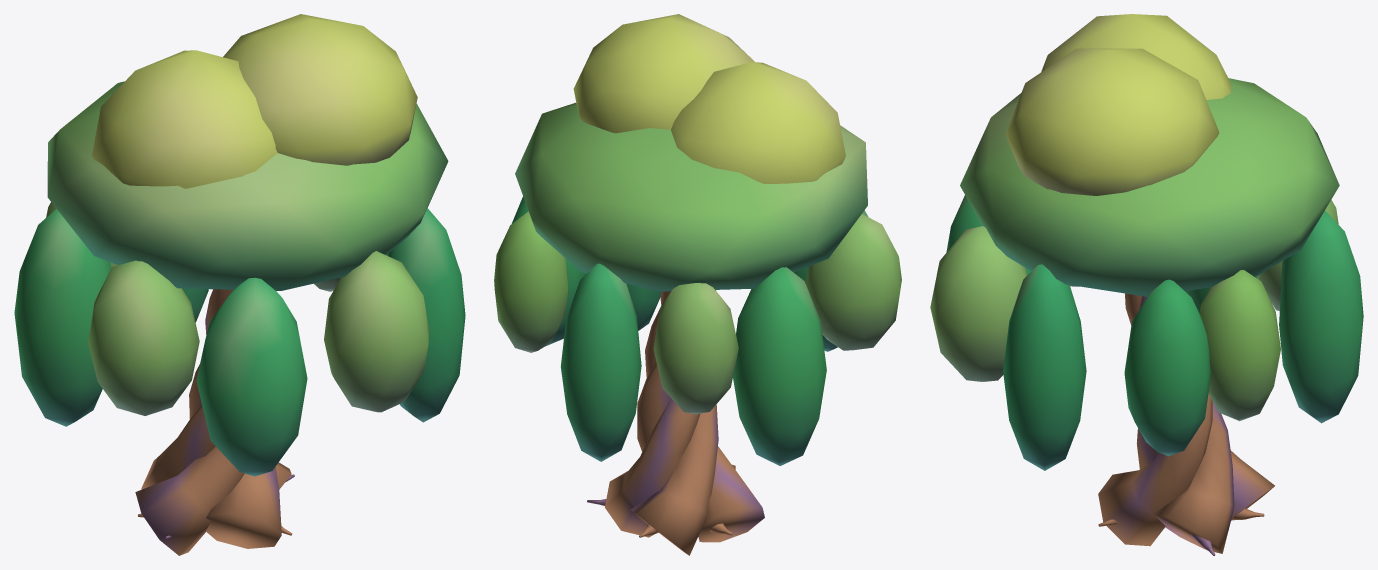
The model's file is verdant_tree_spiralwillow_c.glb.
The picture shows the model from 3 angles, left to right: view 1: azimuth 30°, elevation 25°; view 2: azimuth 150°, elevation 25°; view 3: azimuth 270°, elevation 25°; orthographic projection. The views are drawn at different scales.
Parts seen in each view (by area): view 1: verdant_tree_spiralwillow_c; view 2: verdant_tree_spiralwillow_c; view 3: verdant_tree_spiralwillow_c.
Part boxes in pixels (x1,y1,x2,y2): verdant_tree_spiralwillow_c: (14, 14, 465, 555); verdant_tree_spiralwillow_c: (494, 14, 901, 555); verdant_tree_spiralwillow_c: (930, 14, 1363, 555).
Bounding box in the file's own units: 7.21 × 9.69 × 7.36.
